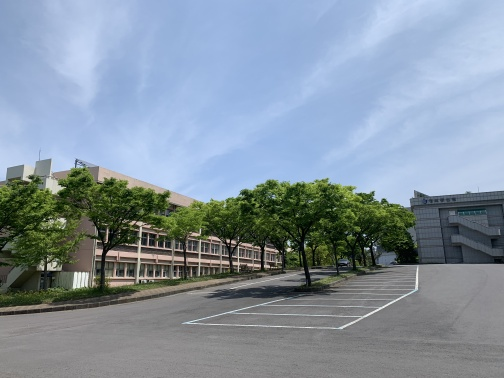College Of Education: (6, 161, 287, 301)
